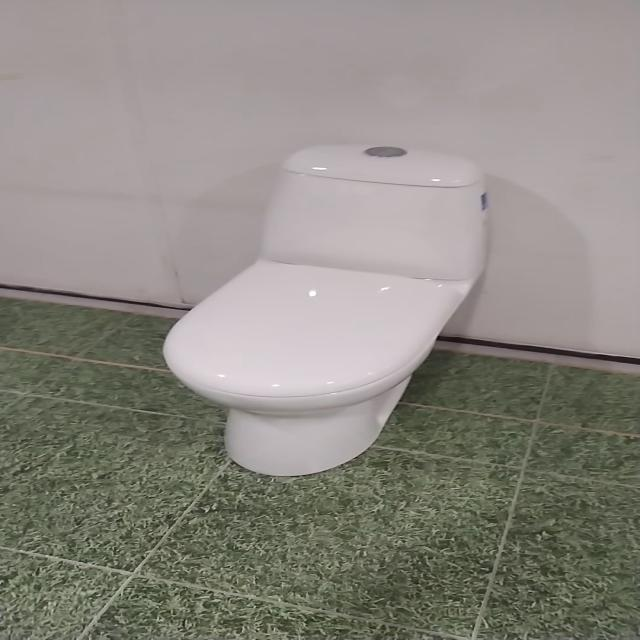toilet: (160, 143, 490, 477)
